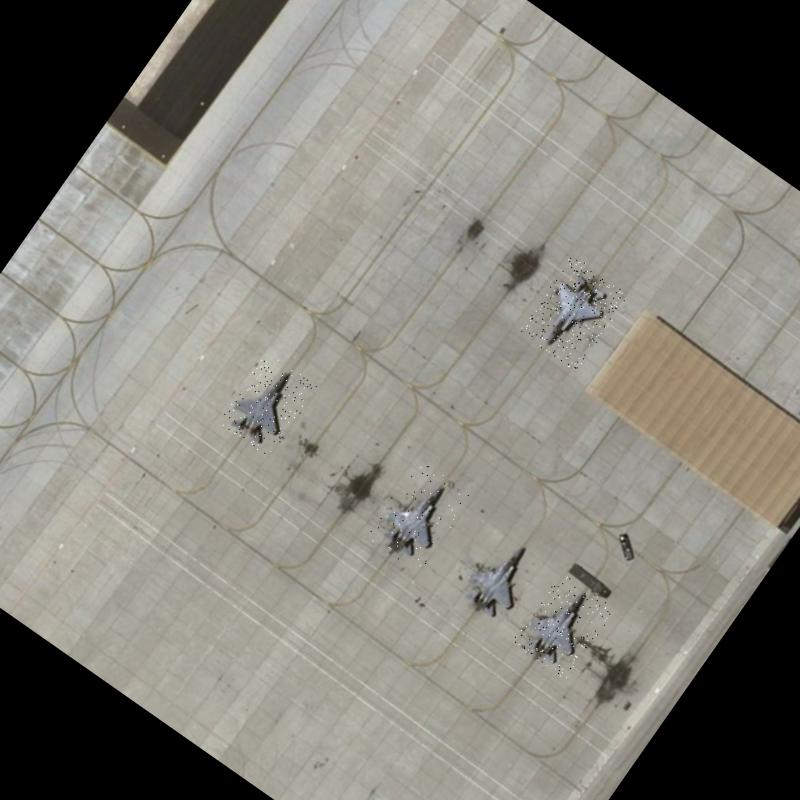A13: (517, 254, 630, 374), (363, 458, 473, 576), (510, 571, 616, 681), (449, 522, 554, 633), (216, 350, 318, 458)
